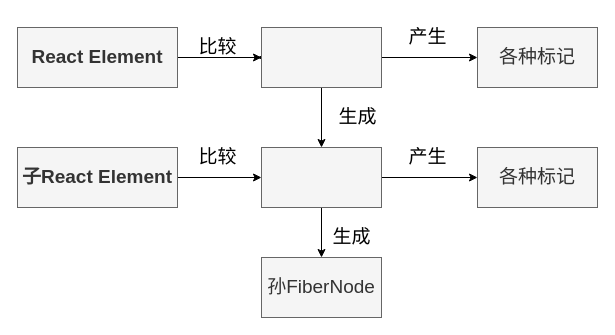
Image size: 615x335. Some labels were removed from this diagram. Here are the shapes that lost their labels. From the top down, the centre of each, then its label:
At (x=321, y=57): "FiberNode".
At (x=321, y=177): "子FiberNode".
